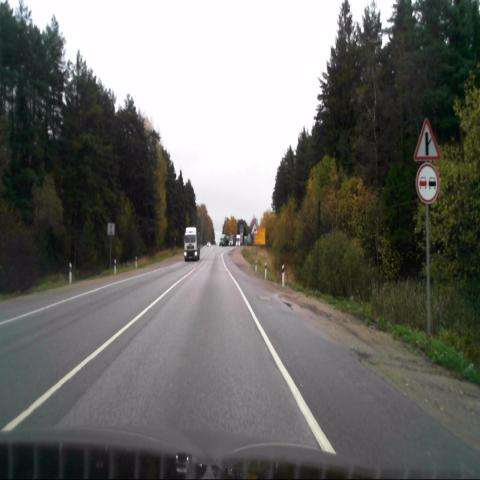2_3_4: (414, 117, 439, 162)
